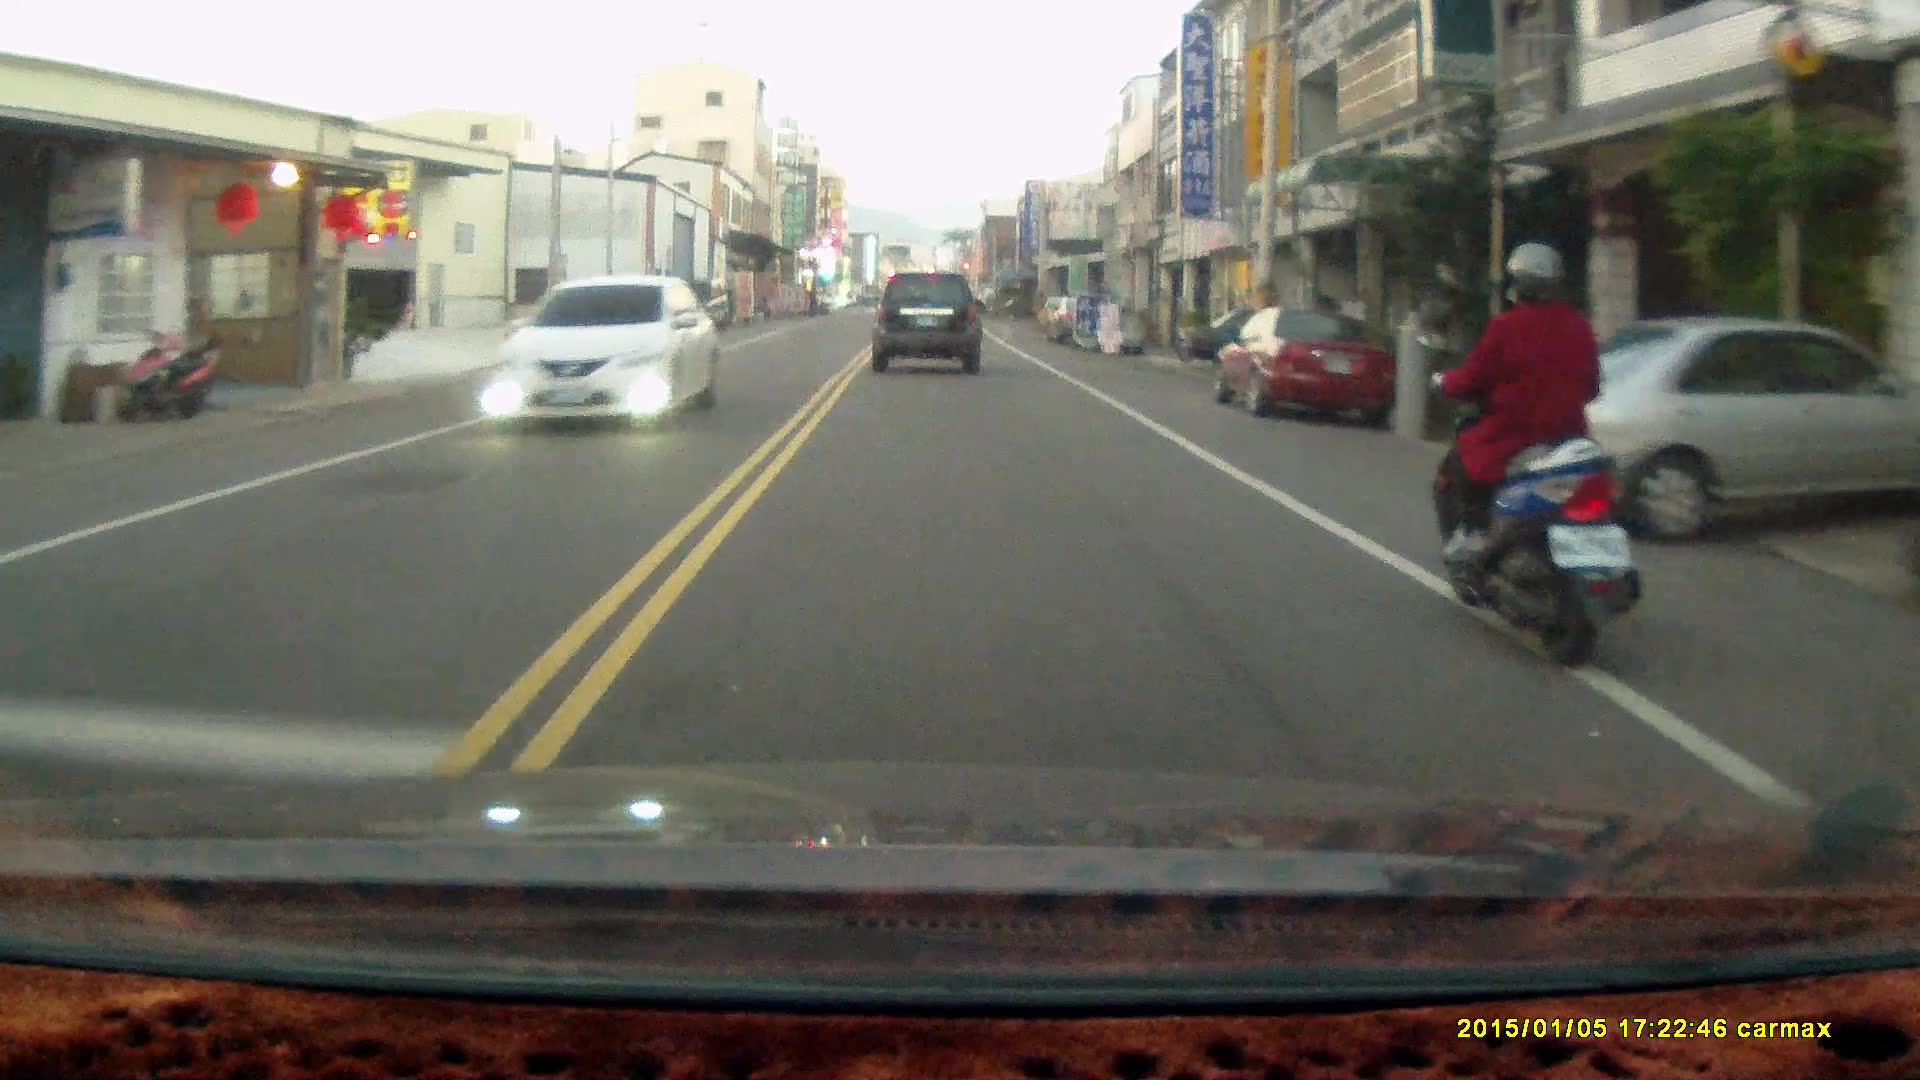rider: (1418, 241, 1645, 677)
vehicle: (1479, 321, 1920, 549), (485, 275, 722, 431), (1212, 307, 1398, 427), (873, 272, 985, 380), (656, 278, 732, 335)
